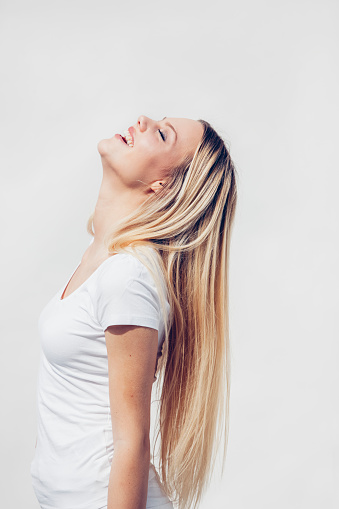em pe: (23, 62, 243, 508)
